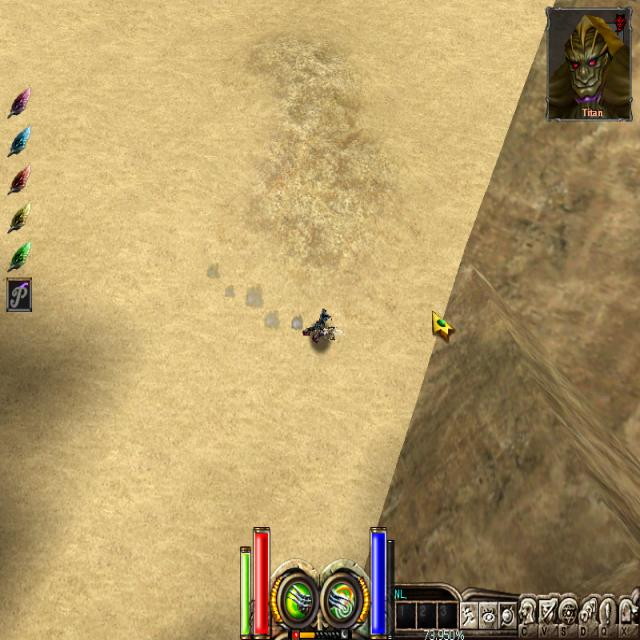monster: (299, 299, 346, 363)
